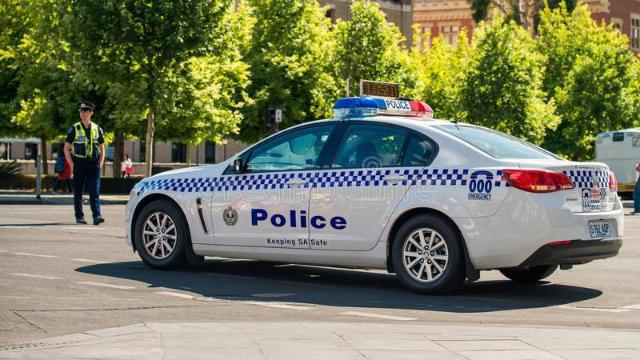police: (123, 94, 625, 295)
